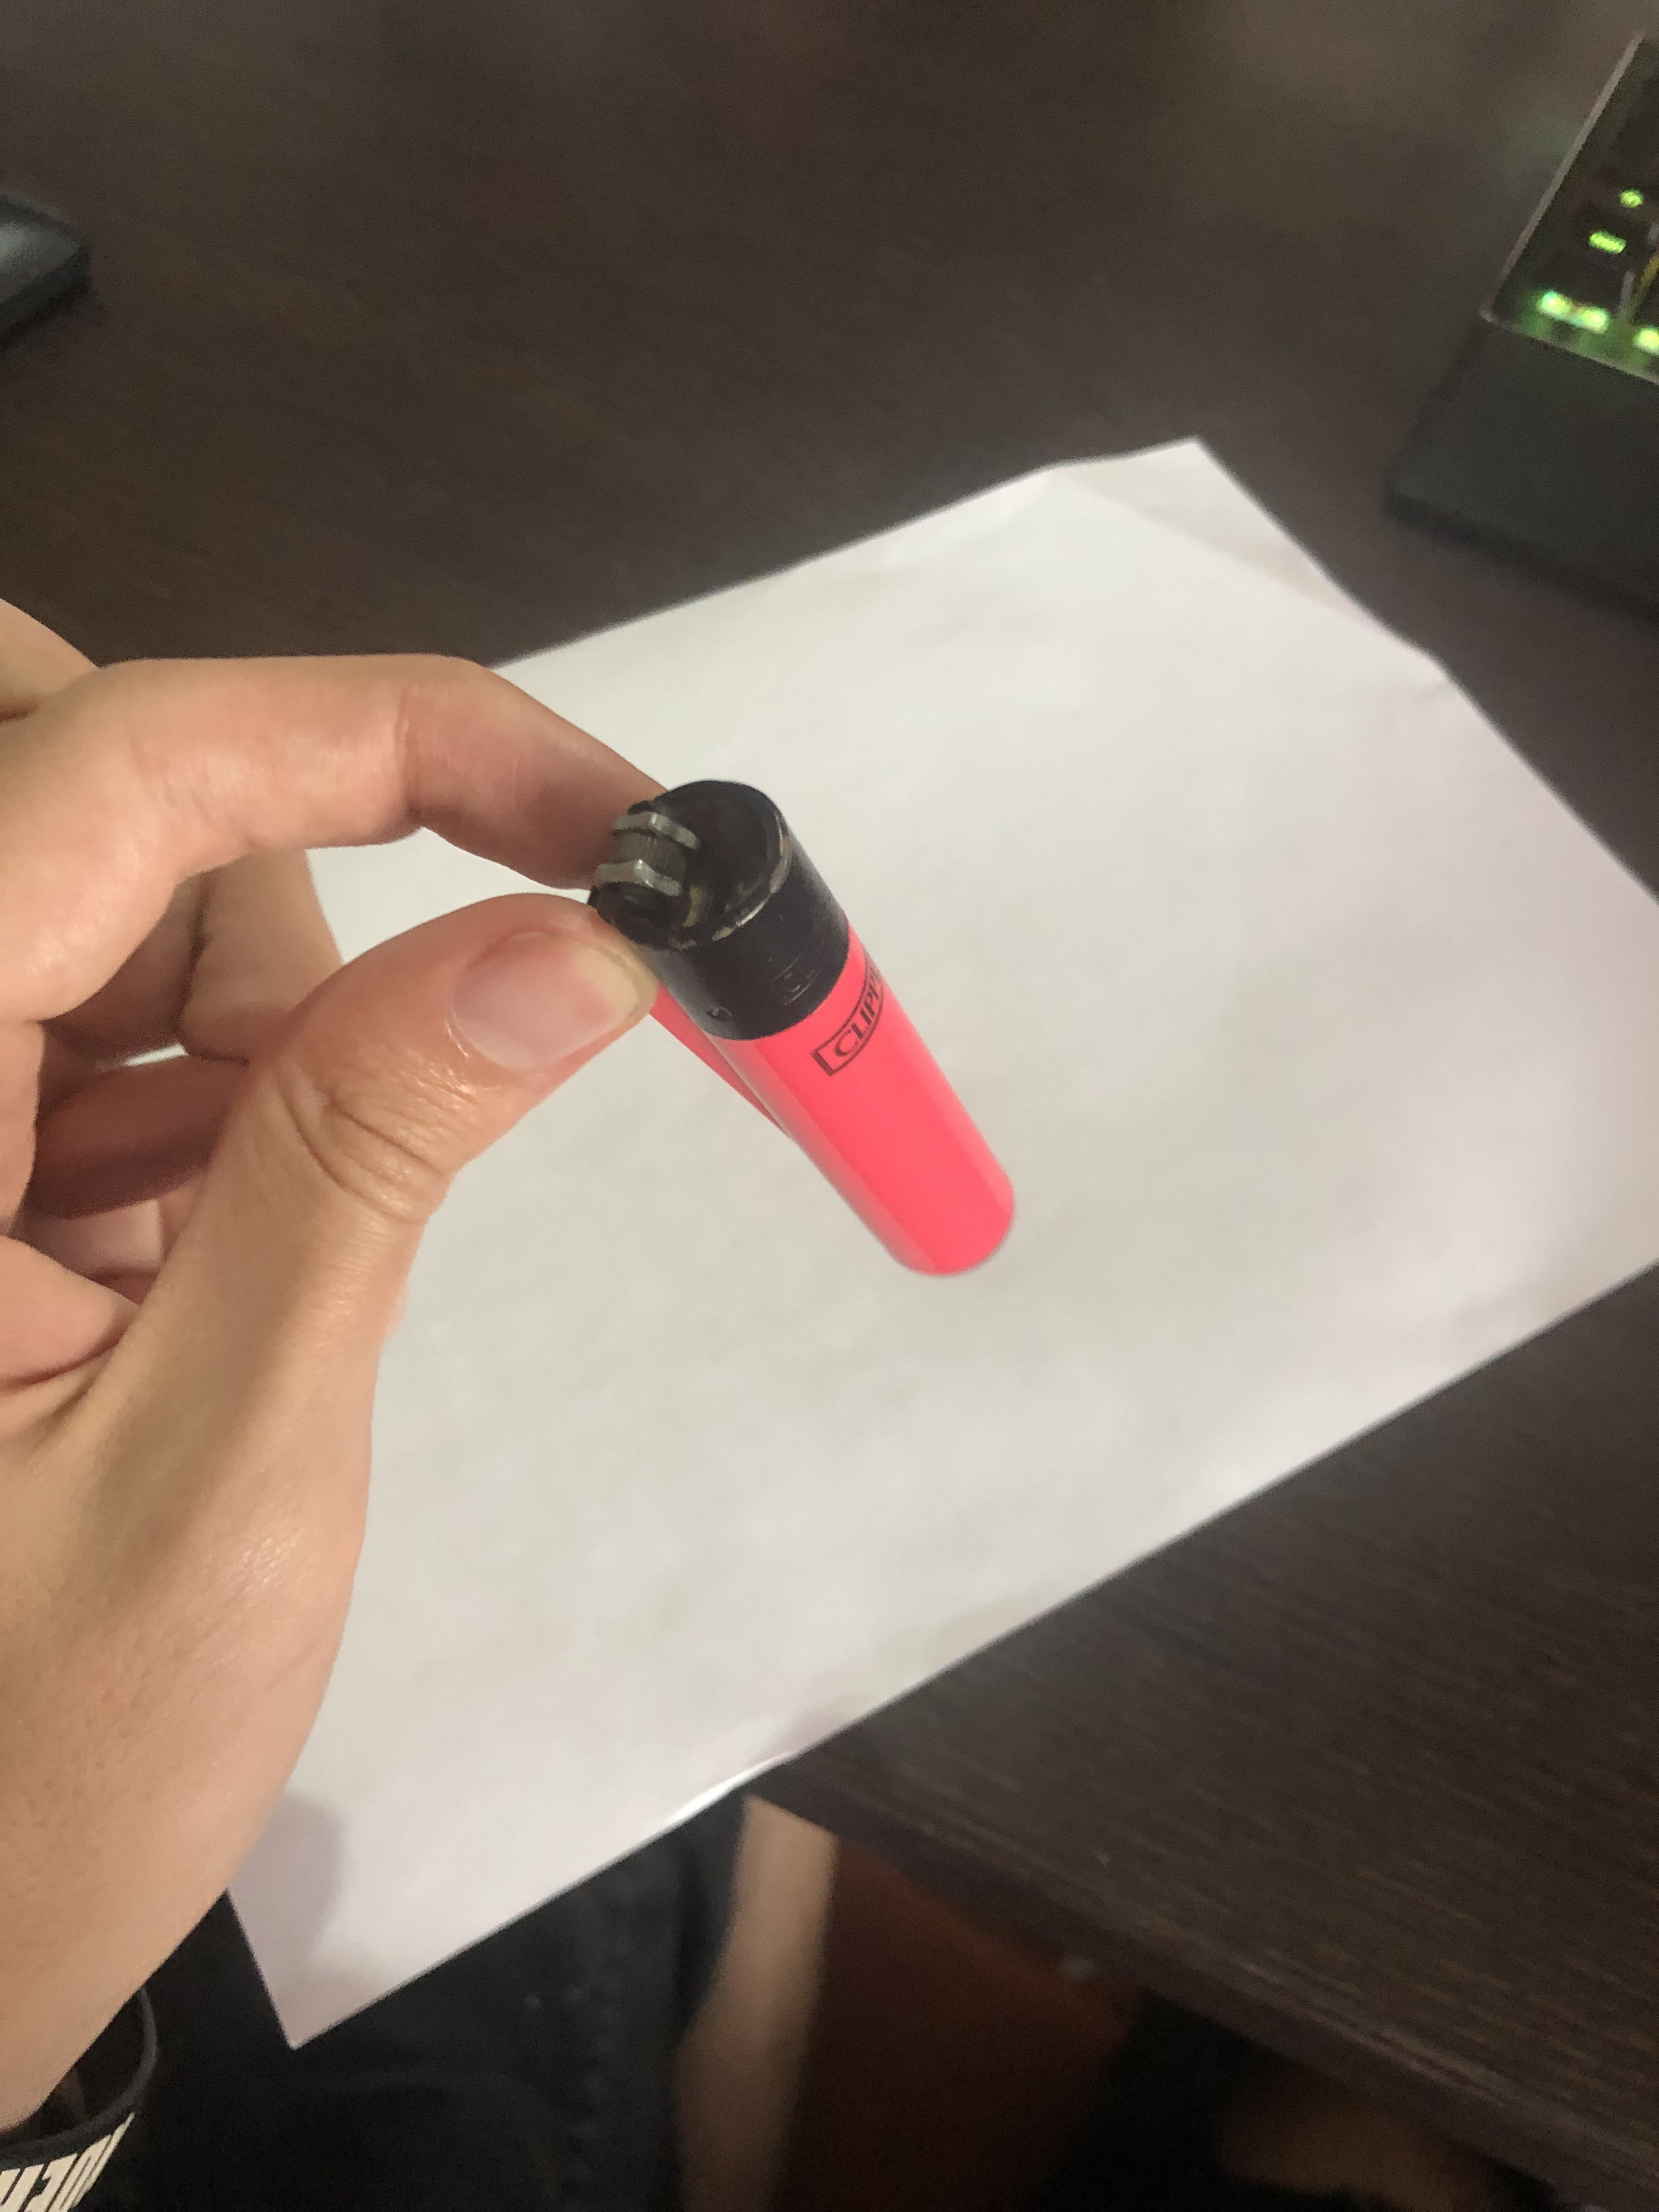Mechero: (579, 770, 1016, 1275)
